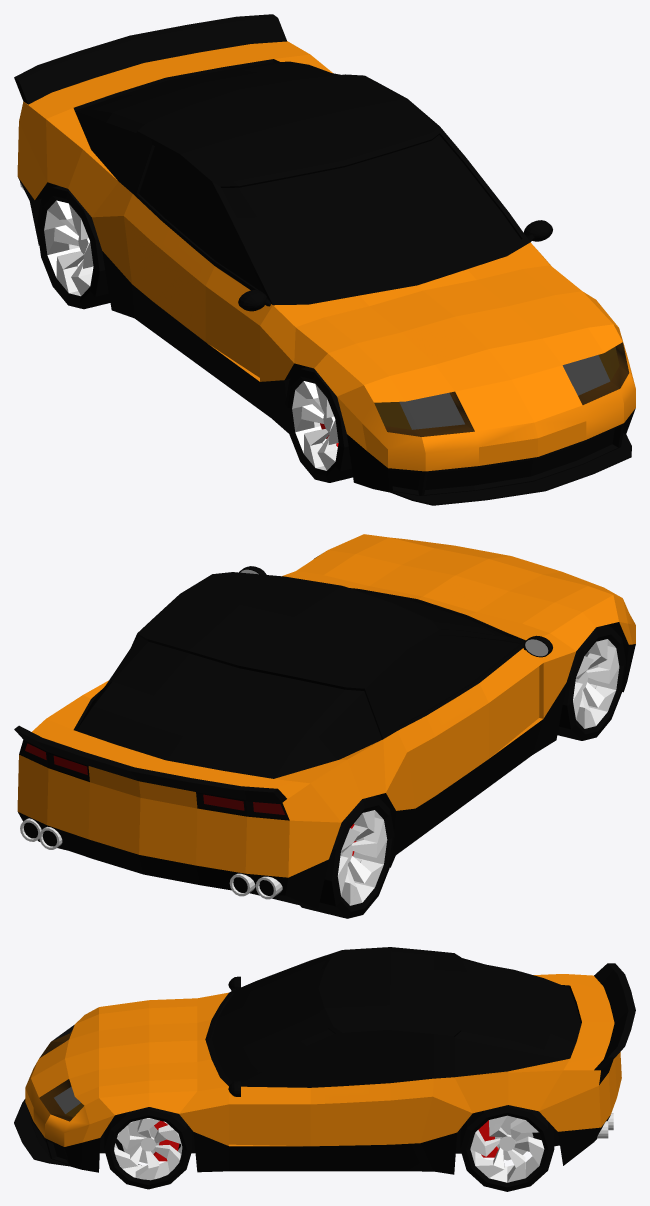
Rendered from car_animated.glb.
The picture shows the model from 3 angles, top to bottom: view 1: azimuth 30°, elevation 25°; view 2: azimuth 150°, elevation 25°; view 3: azimuth 270°, elevation 25°; orthographic projection. The views are drawn at different scales.
Parts seen in each view (by area): view 1: Muscle car 2.Body, 5.Wheel.Bk.R, 5.Wheel.Ft.R; view 2: Muscle car 2.Body, 5.Wheel.Bk.R, 5.Wheel.Ft.R; view 3: Muscle car 2.Body, 5.Wheel.Bk.L, 5.Wheel.Ft.L.
Part boxes in pixels (left/top/right/bottom): Muscle car 2.Body: left=14, top=14, right=635, bottom=505; 5.Wheel.Bk.R: left=36, top=186, right=110, bottom=309; 5.Wheel.Ft.R: left=285, top=367, right=352, bottom=482; Muscle car 2.Body: left=14, top=534, right=635, bottom=909; 5.Wheel.Bk.R: left=300, top=796, right=394, bottom=918; 5.Wheel.Ft.R: left=557, top=625, right=625, bottom=740; Muscle car 2.Body: left=14, top=947, right=635, bottom=1174; 5.Wheel.Bk.L: left=460, top=1105, right=554, bottom=1191; 5.Wheel.Ft.L: left=104, top=1107, right=192, bottom=1189.
Bounding box in the file's own units: 135 × 85.03 × 313.
